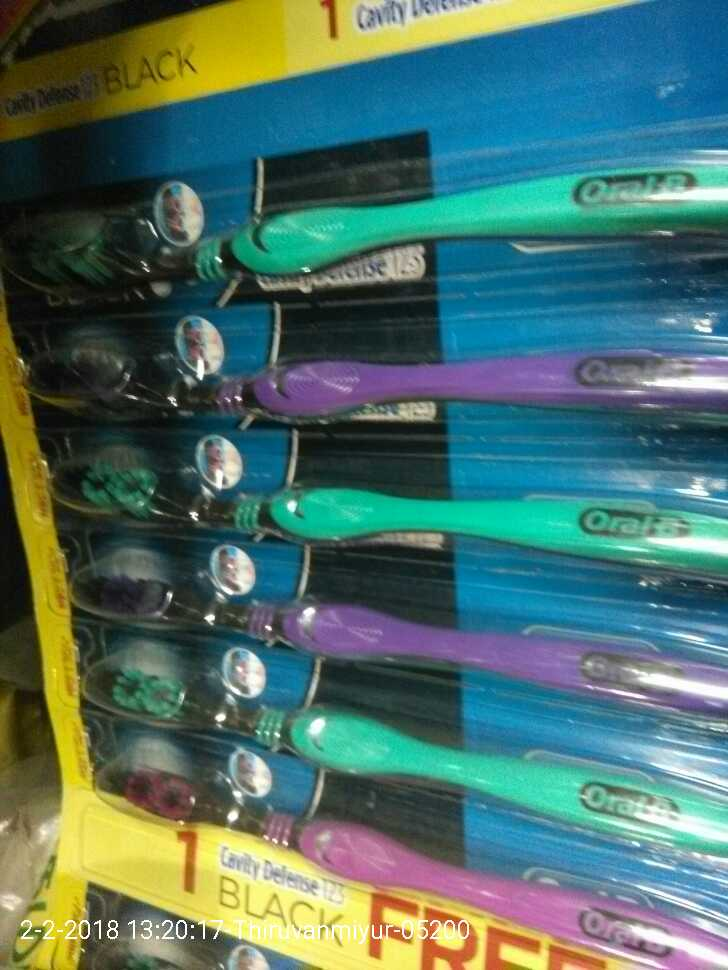oralb: (3, 144, 728, 958)
